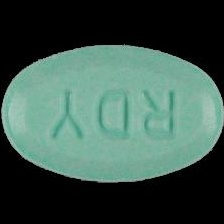43063-034: (0, 0, 224, 224)
